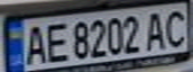0: (106, 15, 127, 56)
2: (121, 11, 145, 54), (87, 16, 109, 58)
8: (69, 17, 90, 61)
A: (21, 21, 48, 65), (142, 8, 169, 51)
C: (160, 6, 193, 48)
E: (42, 20, 69, 63)
